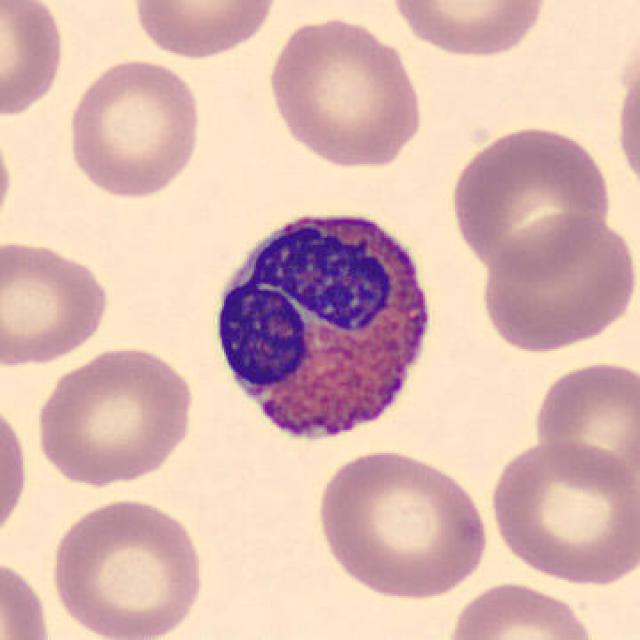Eosinophil: (201, 196, 446, 462)
RBC: (311, 444, 493, 603), (446, 121, 615, 276), (263, 12, 427, 171), (30, 342, 199, 488), (46, 493, 209, 640), (486, 436, 638, 587), (476, 212, 636, 354), (62, 54, 204, 202), (0, 236, 114, 368), (528, 356, 638, 490), (386, 0, 554, 60), (128, 0, 284, 62), (443, 578, 599, 640), (0, 0, 68, 122), (0, 391, 32, 550), (0, 552, 55, 640), (611, 46, 640, 203), (0, 116, 16, 245)
